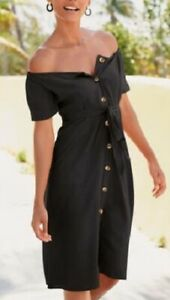C_dress: (25, 68, 134, 288)
